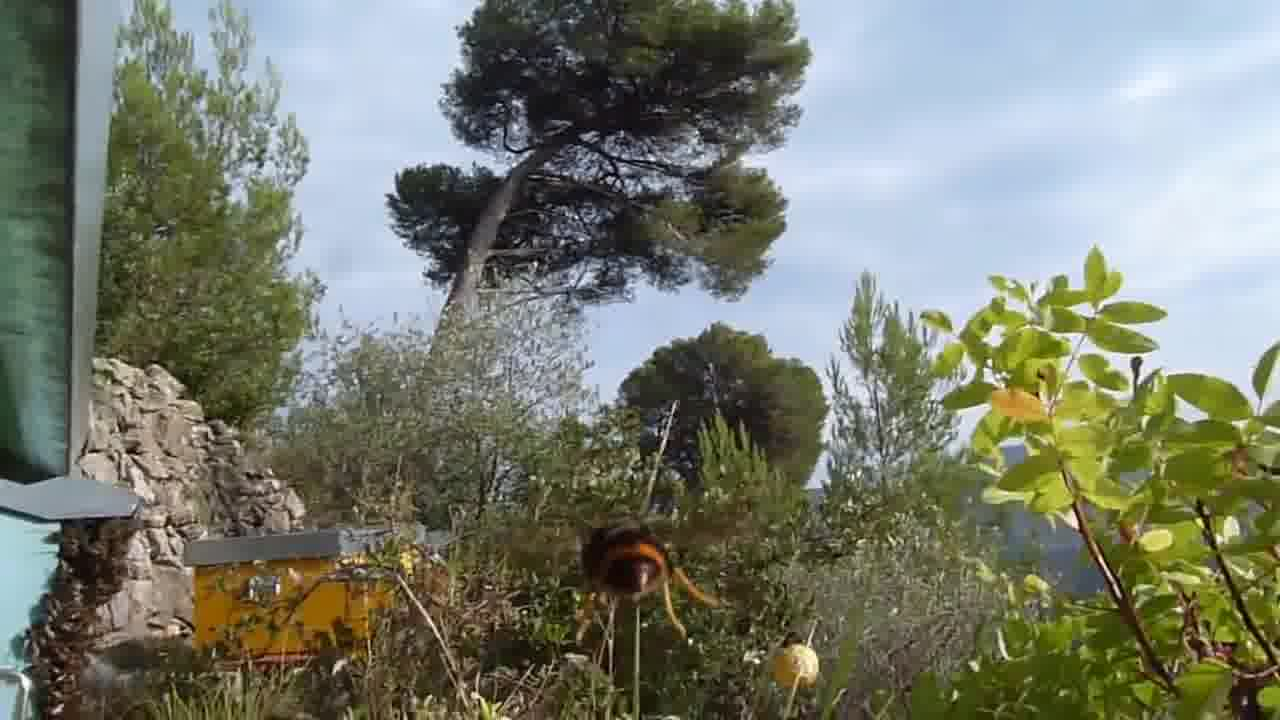bee: (27, 597, 101, 720), (39, 521, 122, 599), (925, 303, 966, 342)
hornet: (566, 499, 678, 613)
